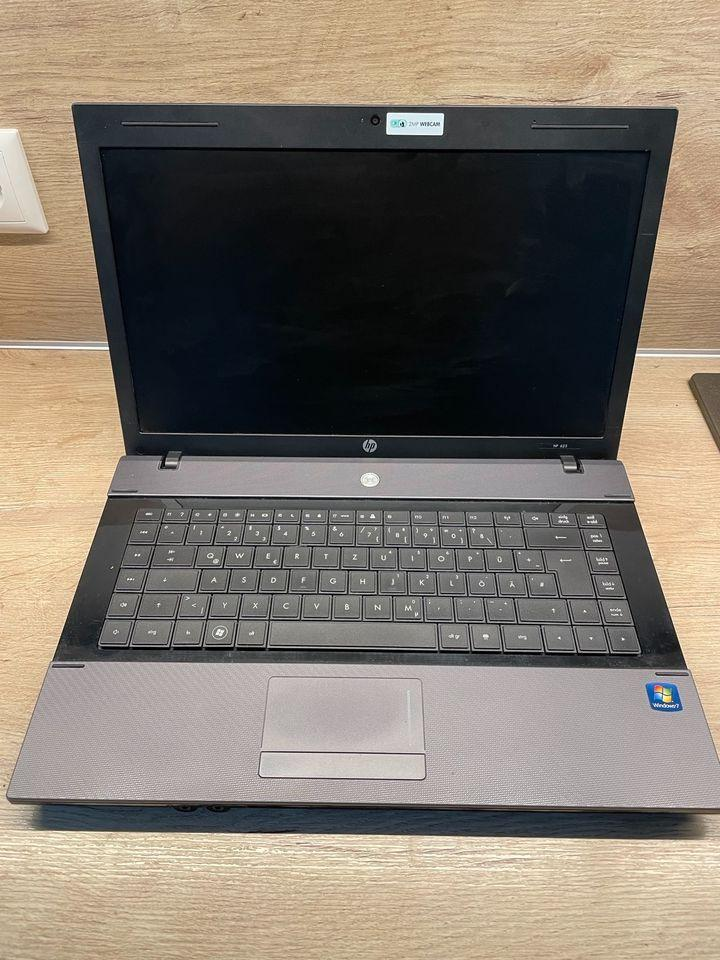0: (439, 525, 465, 544)
1: (185, 521, 212, 541)
2: (213, 520, 241, 541)
3: (242, 521, 268, 542)
4: (271, 521, 296, 542)
5: (299, 522, 324, 542)
6: (326, 522, 352, 542)
7: (355, 523, 380, 543)
8: (383, 523, 408, 543)
9: (411, 523, 437, 544)
a: (197, 566, 227, 589)
accent: (495, 525, 522, 545)
ae: (495, 570, 524, 593)
alt-left: (234, 617, 265, 644)
altgr-right: (437, 620, 467, 646)
b: (331, 591, 359, 616)
c: (269, 591, 299, 615)
caret: (156, 521, 183, 541)
comma: (422, 593, 450, 618)
d: (257, 566, 286, 589)
del: (524, 525, 580, 545)
e: (252, 543, 279, 565)
enter: (542, 547, 591, 594)
f: (288, 566, 315, 589)
g: (318, 567, 345, 590)
h: (347, 567, 374, 591)
hash: (524, 570, 555, 594)
i: (398, 545, 425, 567)
j: (377, 567, 404, 591)
k: (407, 568, 434, 592)
keyboard: (84, 494, 663, 661)
l: (437, 569, 465, 592)
less: (176, 590, 207, 615)
m: (392, 593, 420, 617)
minus: (484, 594, 514, 619)
n: (361, 592, 390, 617)
o: (426, 545, 453, 568)
oe: (466, 570, 494, 593)
p: (455, 545, 482, 568)
plus: (512, 546, 541, 569)
point: (453, 594, 482, 619)
q: (193, 542, 223, 565)
r: (282, 543, 308, 565)
s: (227, 566, 256, 589)
shift-left: (136, 590, 177, 615)
shift-lock: (144, 565, 197, 589)
shift-right: (515, 595, 566, 620)
space: (266, 617, 435, 646)
ss: (467, 524, 493, 545)
strg-left: (128, 617, 172, 644)
strg-right: (499, 621, 541, 648)
t: (311, 543, 337, 565)
tab: (150, 542, 194, 564)
u: (368, 545, 395, 567)
ue: (483, 546, 511, 568)
v: (300, 591, 328, 616)
w: (223, 542, 251, 565)
x: (239, 590, 267, 615)
y: (208, 590, 238, 615)
z: (340, 544, 366, 566)
